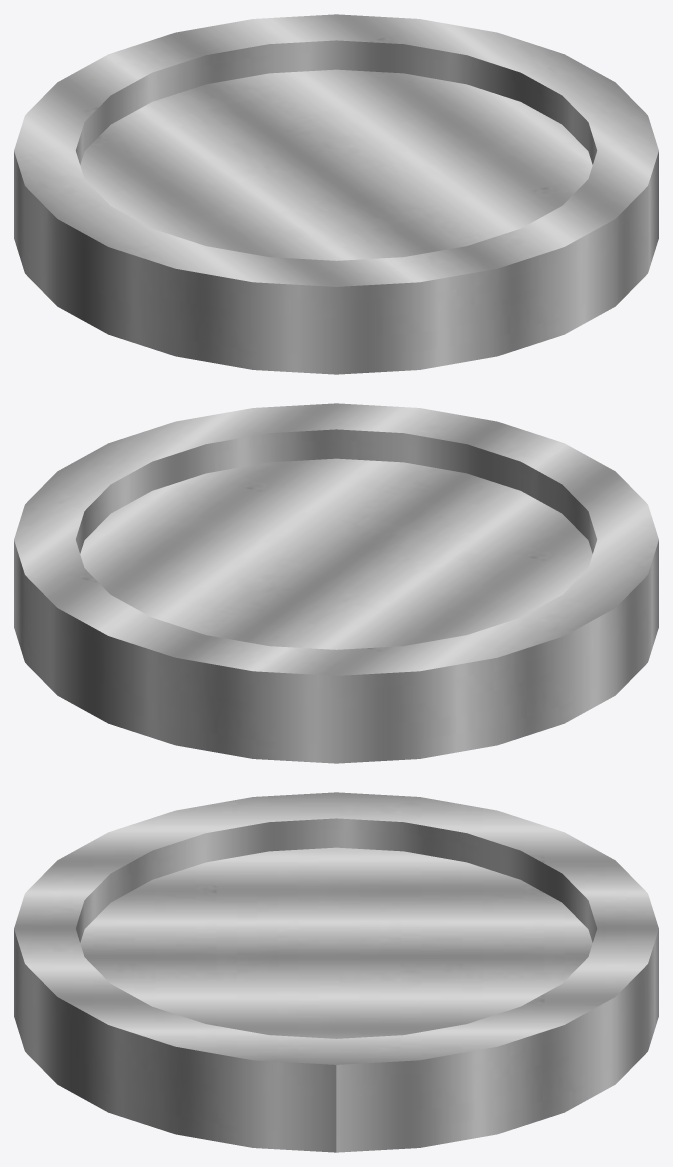
File: Coin.obj
3 renders of one model, top to bottom at view 1: azimuth 30°, elevation 25°; view 2: azimuth 150°, elevation 25°; view 3: azimuth 270°, elevation 25°, orthographic.
Parts seen in each view (by area): view 1: Mesh; view 2: Mesh; view 3: Mesh.
Boxes of the visible parts, x1,y1,x2,y2 form: Mesh: (14,14,658,374); Mesh: (14,403,658,763); Mesh: (14,792,658,1152).
Bounding box in the file's own units: 0.2 × 0.03 × 0.2.
